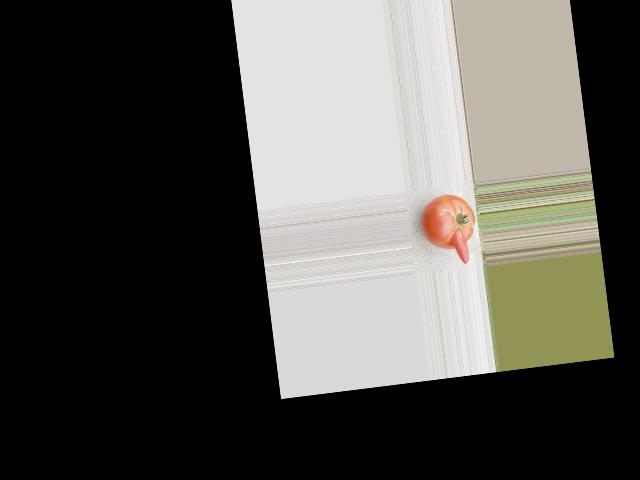tomato: (418, 190, 478, 252)
